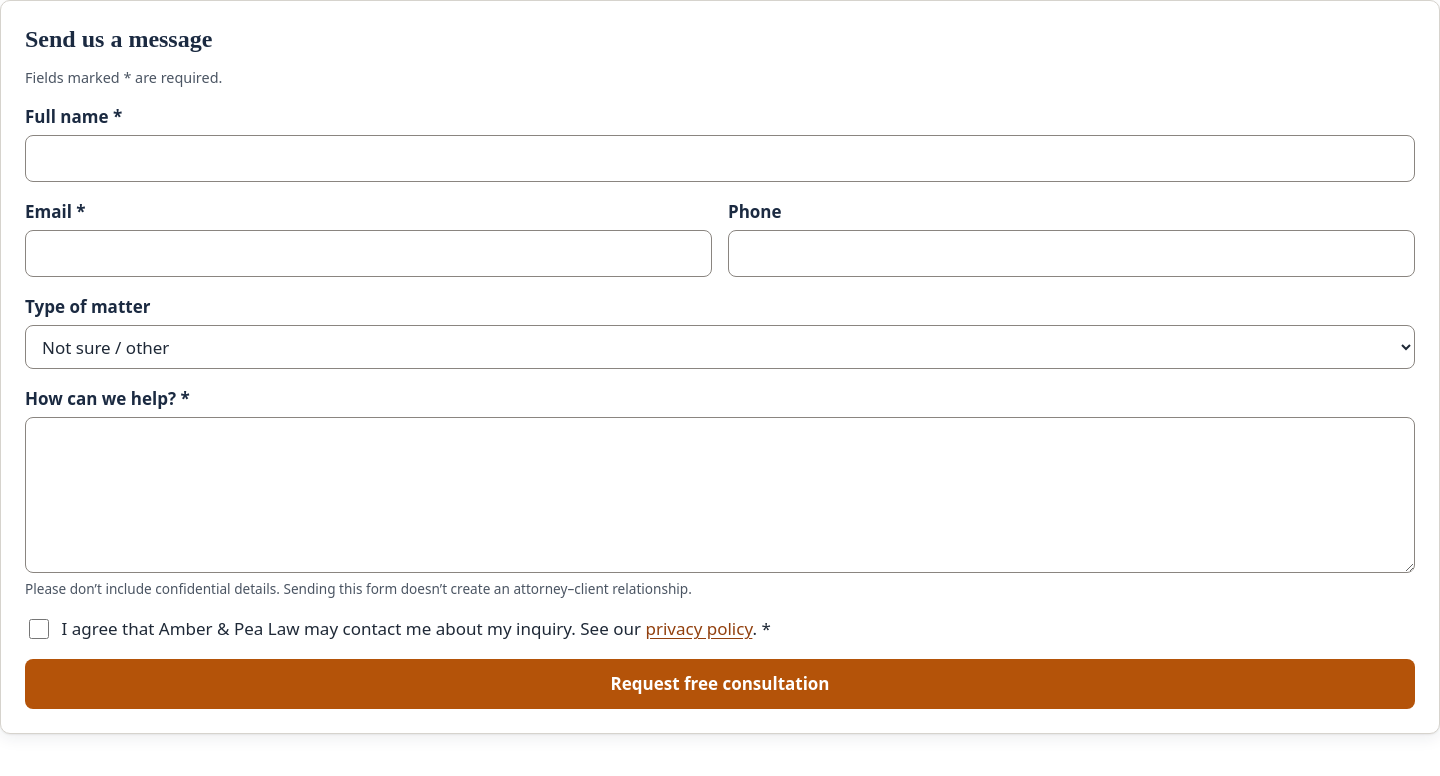
Test case: LeadForm › shows errors, marks fields invalid and focuses the first one
This screenshot has width=1440, height=776.
Click the button "Request free consultation" at (720, 684), box top-left (25, 659), bottom-right (1415, 709)
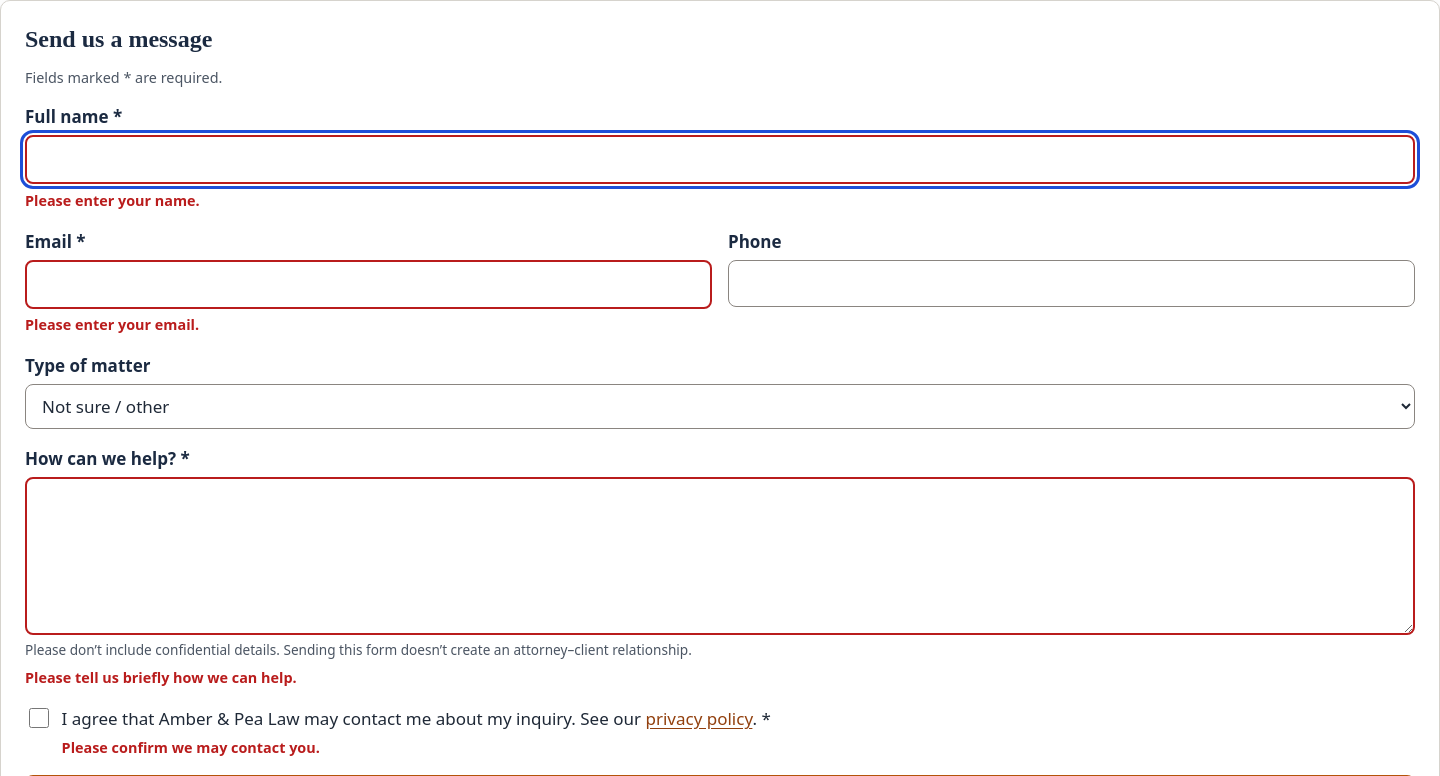
Result: the text "Please confirm we may contact you." is shown at top-left (62, 738), bottom-right (320, 757)
